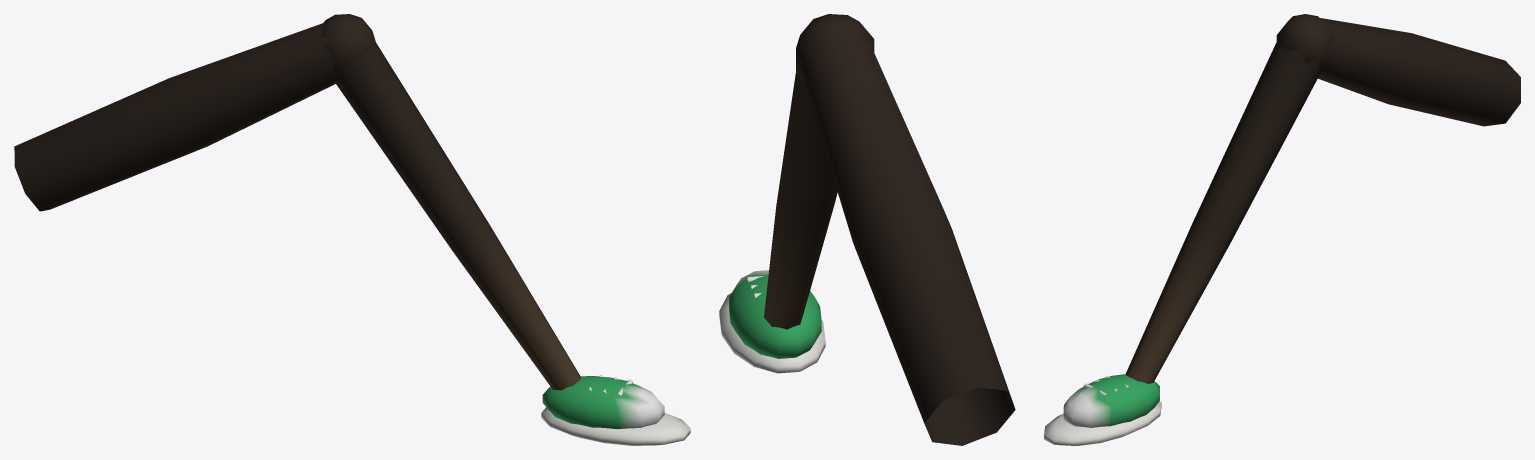
File: Spider_Leg4_Sneaker.fbx
3 views of the same model, side by side, from view 1: azimuth 30°, elevation 25°; view 2: azimuth 150°, elevation 25°; view 3: azimuth 270°, elevation 25° (orthographic). The views are drawn at different scales.
Parts seen in each view (by area): view 1: Spider_Leg4_Sneaker; view 2: Spider_Leg4_Sneaker; view 3: Spider_Leg4_Sneaker.
Boxes of the visible parts, x1=… form: Spider_Leg4_Sneaker: x1=14, y1=14, x2=690, y2=445; Spider_Leg4_Sneaker: x1=719, y1=14, x2=1015, y2=445; Spider_Leg4_Sneaker: x1=1044, y1=14, x2=1520, y2=445.
Size of the model in its own units: 0.2969 by 0.2438 by 0.3026.
